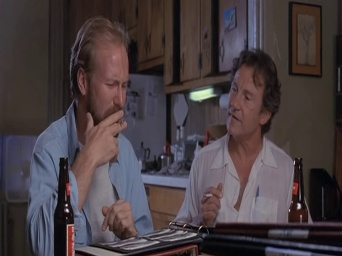smoke: (199, 191, 215, 197), (114, 118, 125, 126)
